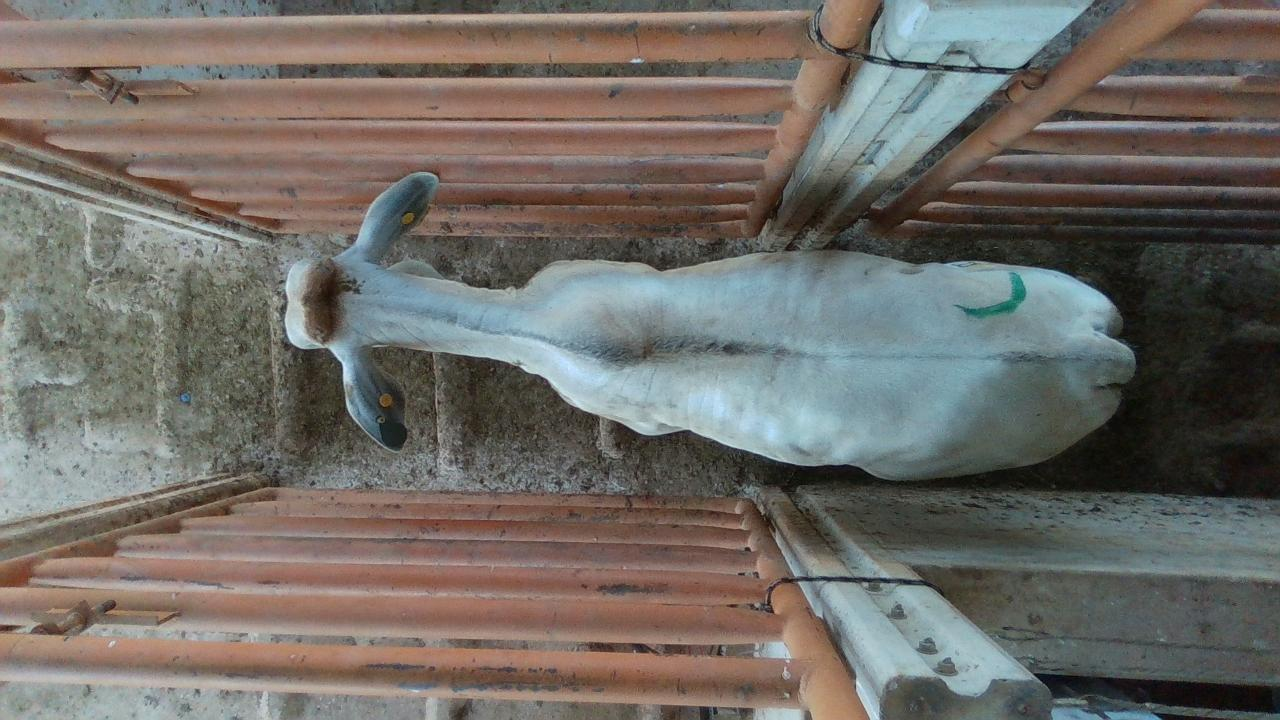cattle: (282, 170, 1137, 482)
